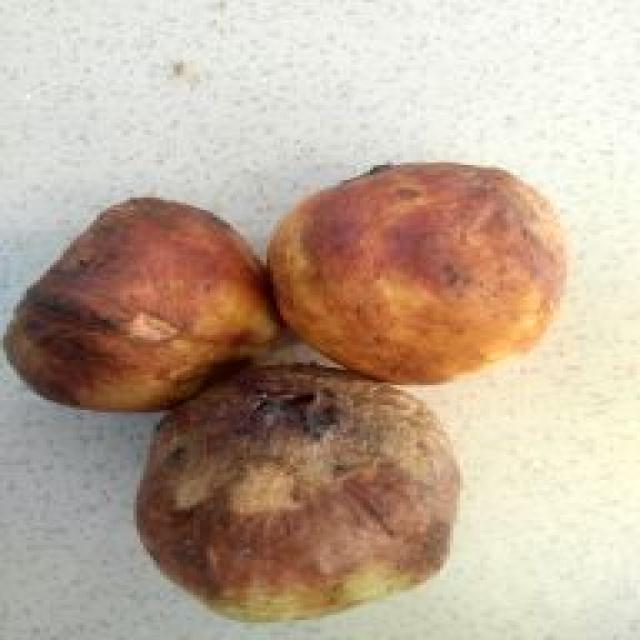Bad_Guava: (138, 365, 458, 621), (5, 198, 278, 409)
